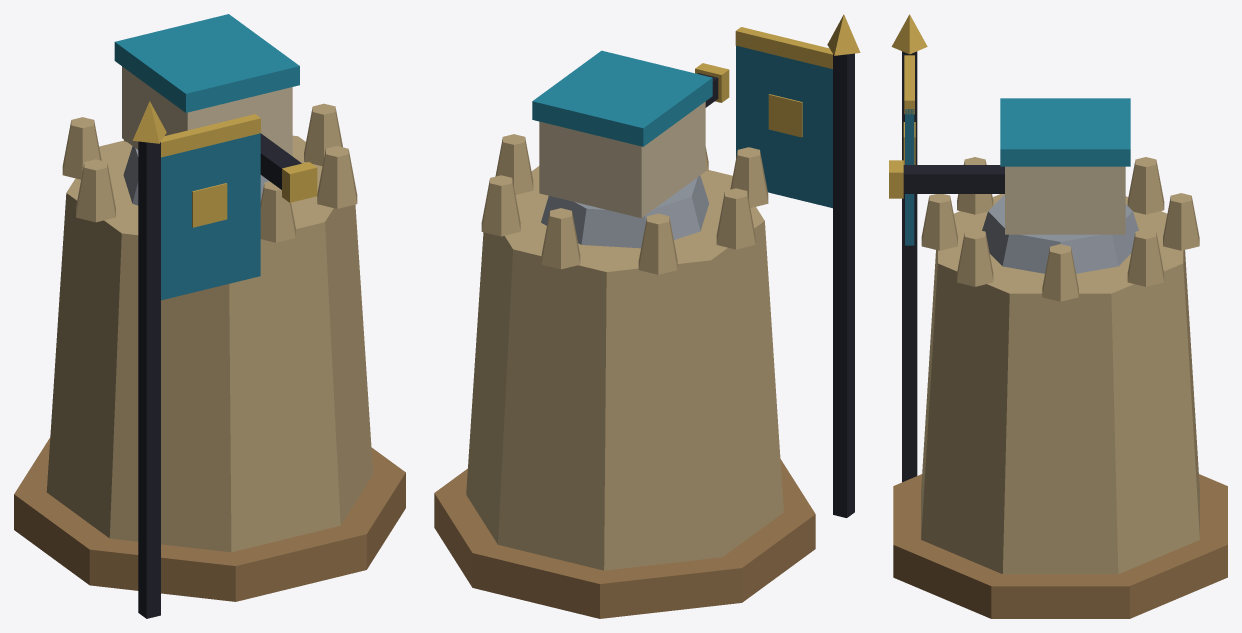
The model's file is tower_t1.glb.
3 renders of one model, left to right at view 1: azimuth 30°, elevation 25°; view 2: azimuth 150°, elevation 25°; view 3: azimuth 270°, elevation 25°, orthographic. The views are drawn at different scales.
Parts seen in each view (by area): view 1: body, part_turret; view 2: body, part_turret; view 3: body, part_turret.
Boxes of the visible parts, left/top/right/bottom form: body: left=14, top=101, right=405, bottom=618; part_turret: left=114, top=14, right=317, bottom=205; body: left=434, top=14, right=860, bottom=618; part_turret: left=532, top=50, right=729, bottom=248; body: left=891, top=14, right=1227, bottom=618; part_turret: left=889, top=98, right=1138, bottom=273.
Bounding box in the file's own units: 1.11 × 1.72 × 1.12.
